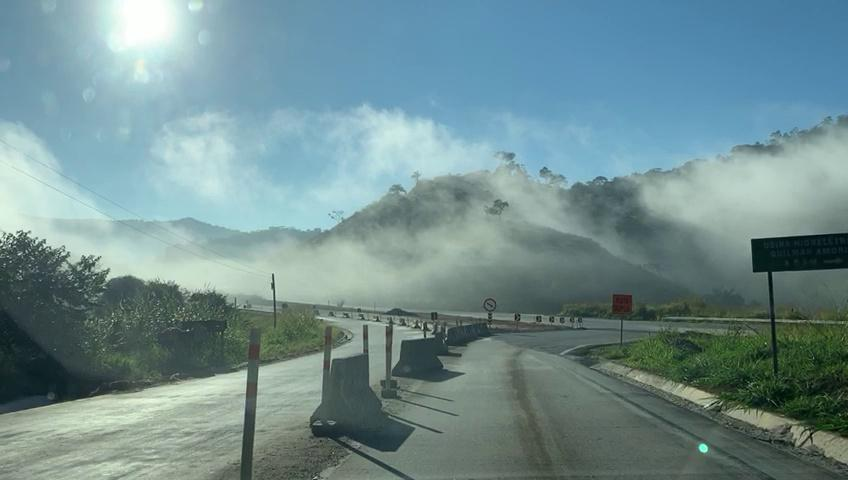smoke: (674, 169, 826, 231), (299, 259, 479, 298)
